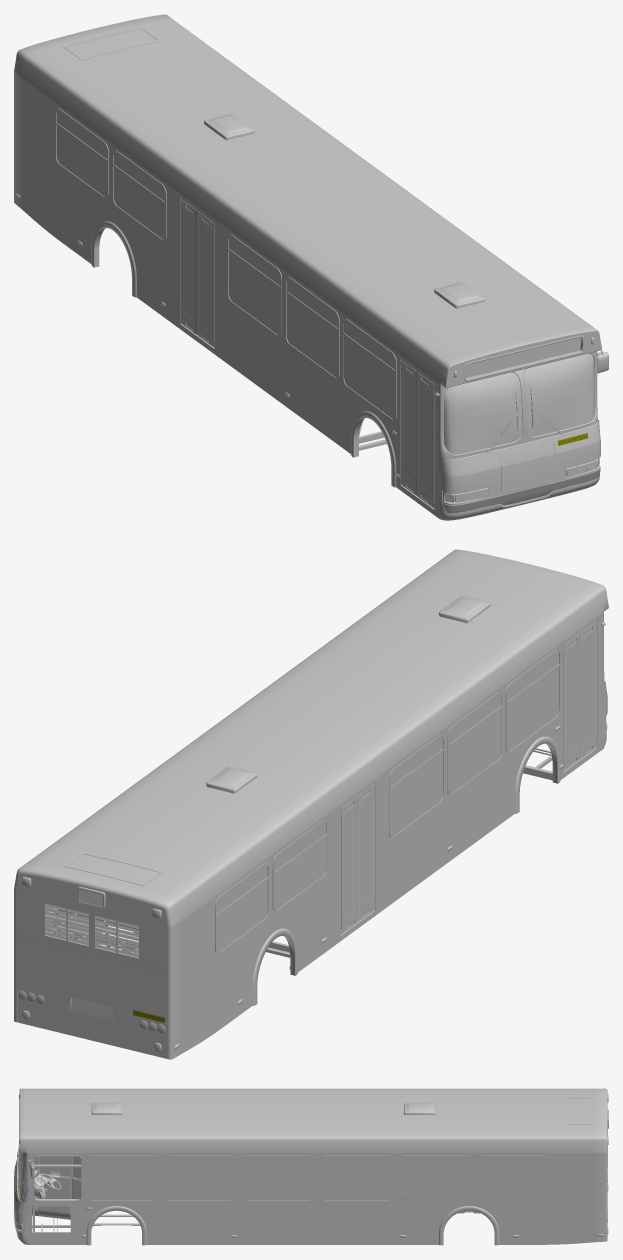
File: neuplan.dae
3 renders of one model, top to bottom at view 1: azimuth 30°, elevation 25°; view 2: azimuth 150°, elevation 25°; view 3: azimuth 270°, elevation 25°, orthographic. The views are drawn at different scales.
Visible parts, largest first — view 1: citybus_neu_roof, citybus_neu_wall_R, citybus_neu_windshield_R, citybus_neu_fascia_F, citybus_neu_windshield_L, citybus_neu_destinationsign_F, citybus_neu_wallglass_4_R, citybus_neu_wallglass_3_R, citybus_neu_wallglass_2_R, citybus_neu_accessdoor_batteries, citybus_neu_wallglass_7_R, citybus_neu_wallglass_6_R (+14 smaller); view 2: citybus_neu_roof, citybus_neu_wall_R, citybus_neu_fascia_R_hvac, citybus_neu_enginedoor_k, citybus_neu_accessdoor_rearhvac, citybus_neu_bumper_R, citybus_neu_wallglass_3_R, citybus_neu_wallglass_4_R, citybus_neu_wallglass_2_R, citybus_neu_accessdoor_batteries, citybus_neu_wallglass_6_R, citybus_neu_wallglass_7_R (+11 smaller); view 3: citybus_neu_roof, citybus_neu_wall_L, citybus_neu_wallglass_5_L, citybus_neu_wallglass_4_L, citybus_neu_wallglass_3_L, citybus_neu_wallglass_2_L, citybus_neu_accessdoor_radiator, citybus_neu_wallglass_6_L, citybus_neu_wallglass_7_L, citybus_neu_fascia_R_hvac, citybus_neu_intdoor, citybus_neu_fascia_RB_k (+7 smaller).
Part boxes in pixels (x1,y1,x2,y2): citybus_neu_roof: (22, 20, 592, 384); citybus_neu_wall_R: (22, 79, 436, 516); citybus_neu_windshield_R: (444, 372, 522, 454); citybus_neu_fascia_F: (436, 420, 600, 505); citybus_neu_windshield_L: (523, 353, 595, 436); citybus_neu_destinationsign_F: (440, 326, 601, 387); citybus_neu_wallglass_4_R: (229, 236, 280, 335); citybus_neu_wallglass_3_R: (286, 279, 337, 377); citybus_neu_wallglass_2_R: (344, 321, 395, 419); citybus_neu_accessdoor_batteries: (22, 151, 67, 246); citybus_neu_wallglass_7_R: (56, 110, 107, 196); citybus_neu_wallglass_6_R: (114, 152, 164, 239); citybus_neu_roof: (27, 552, 604, 921); citybus_neu_wall_R: (181, 615, 599, 1023); citybus_neu_fascia_R_hvac: (14, 862, 180, 977); citybus_neu_enginedoor_k: (17, 940, 166, 1035); citybus_neu_accessdoor_rearhvac: (39, 896, 144, 965); citybus_neu_bumper_R: (17, 999, 166, 1058); citybus_neu_wallglass_3_R: (449, 694, 501, 793); citybus_neu_wallglass_4_R: (391, 736, 442, 836); citybus_neu_wallglass_2_R: (507, 651, 558, 750); citybus_neu_accessdoor_batteries: (181, 961, 227, 1053); citybus_neu_wallglass_6_R: (274, 822, 326, 909); citybus_neu_wallglass_7_R: (216, 865, 267, 952); citybus_neu_roof: (26, 1088, 594, 1153); citybus_neu_wall_L: (32, 1153, 594, 1245); citybus_neu_wallglass_5_L: (321, 1156, 391, 1200); citybus_neu_wallglass_4_L: (243, 1156, 313, 1200); citybus_neu_wallglass_3_L: (165, 1156, 235, 1200); citybus_neu_wallglass_2_L: (87, 1156, 157, 1200); citybus_neu_accessdoor_radiator: (532, 1202, 594, 1244); citybus_neu_wallglass_6_L: (400, 1156, 470, 1192); citybus_neu_wallglass_7_L: (478, 1156, 547, 1192); citybus_neu_fascia_R_hvac: (594, 1088, 607, 1186); citybus_neu_intdoor: (32, 1156, 81, 1219); citybus_neu_fascia_RB_k: (594, 1170, 607, 1242).
Bounding box in the file's own units: 2.91 × 12.57 × 2.64.
